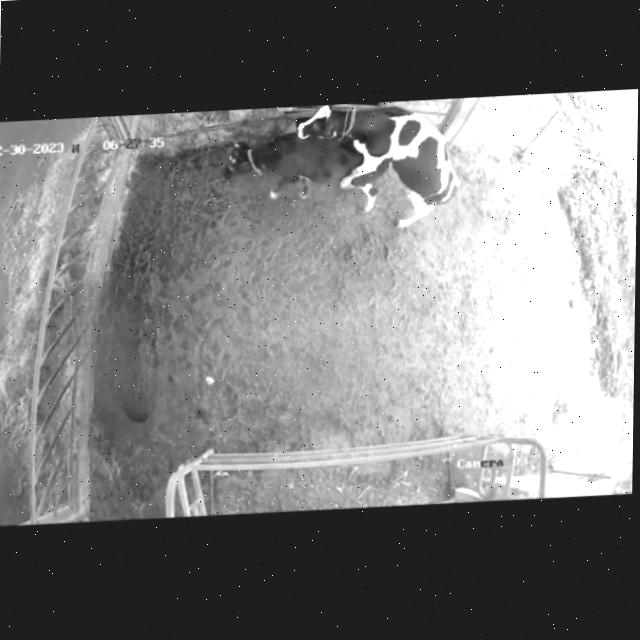ride: (290, 97, 467, 244)
stand: (215, 128, 361, 214)
